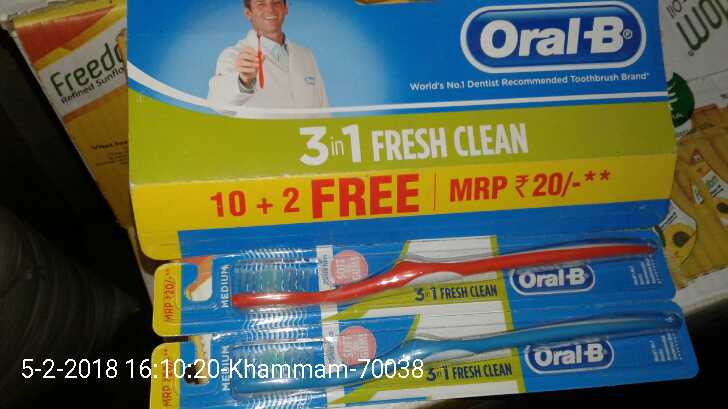oralb: (174, 237, 673, 304)
